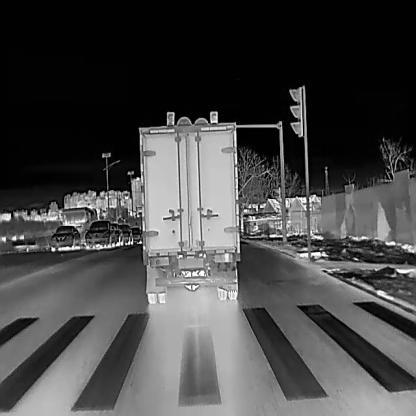car: (137, 121, 241, 305), (59, 206, 98, 246), (84, 220, 116, 249), (50, 225, 81, 251), (117, 223, 133, 246), (109, 222, 124, 246), (129, 226, 141, 244)
